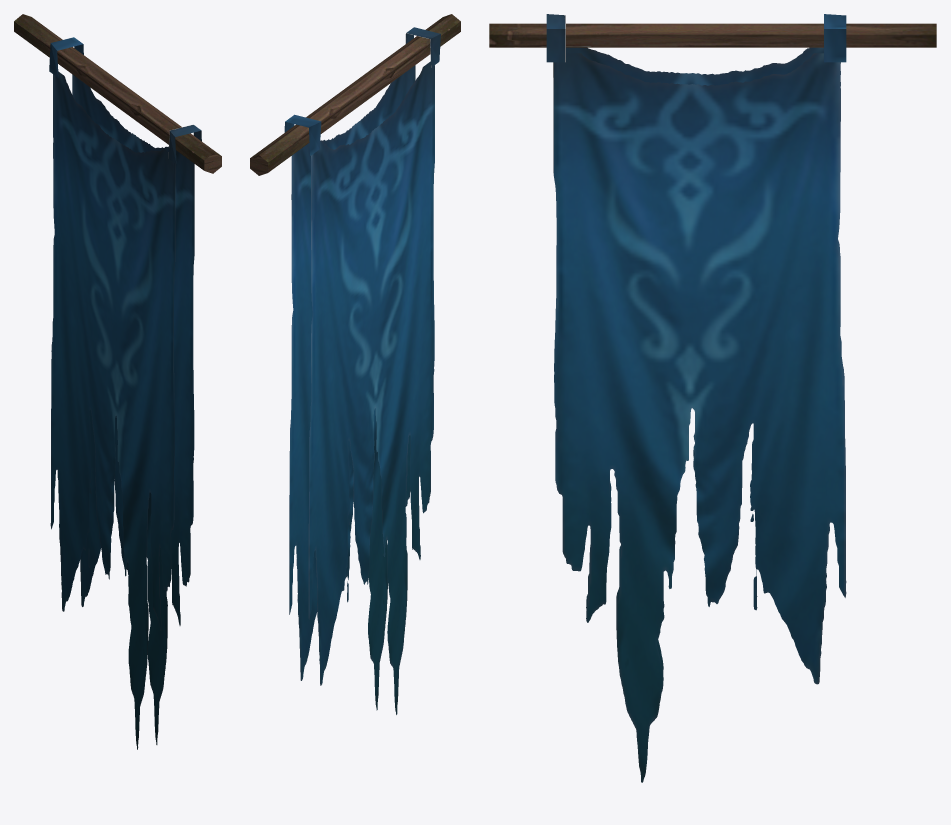
File: QiZi01.FBX
3 renders of one model, left to right at view 1: azimuth 30°, elevation 25°; view 2: azimuth 150°, elevation 25°; view 3: azimuth 270°, elevation 25°, orthographic. The views are drawn at different scales.
Visible parts, largest first — view 1: Object801126980, Object801126979; view 2: Object801126980, Object801126979; view 3: Object801126980, Object801126979.
Part boxes in pixels (x1=…): Object801126980: x1=49, y1=37, x2=201, y2=749; Object801126979: x1=14, y1=14, x2=221, y2=173; Object801126980: x1=284, y1=27, x2=440, y2=714; Object801126979: x1=250, y1=14, x2=460, y2=175; Object801126980: x1=546, y1=14, x2=846, y2=782; Object801126979: x1=489, y1=23, x2=936, y2=47.
Bounding box in the file's own units: 8.95 × 210 × 109.
